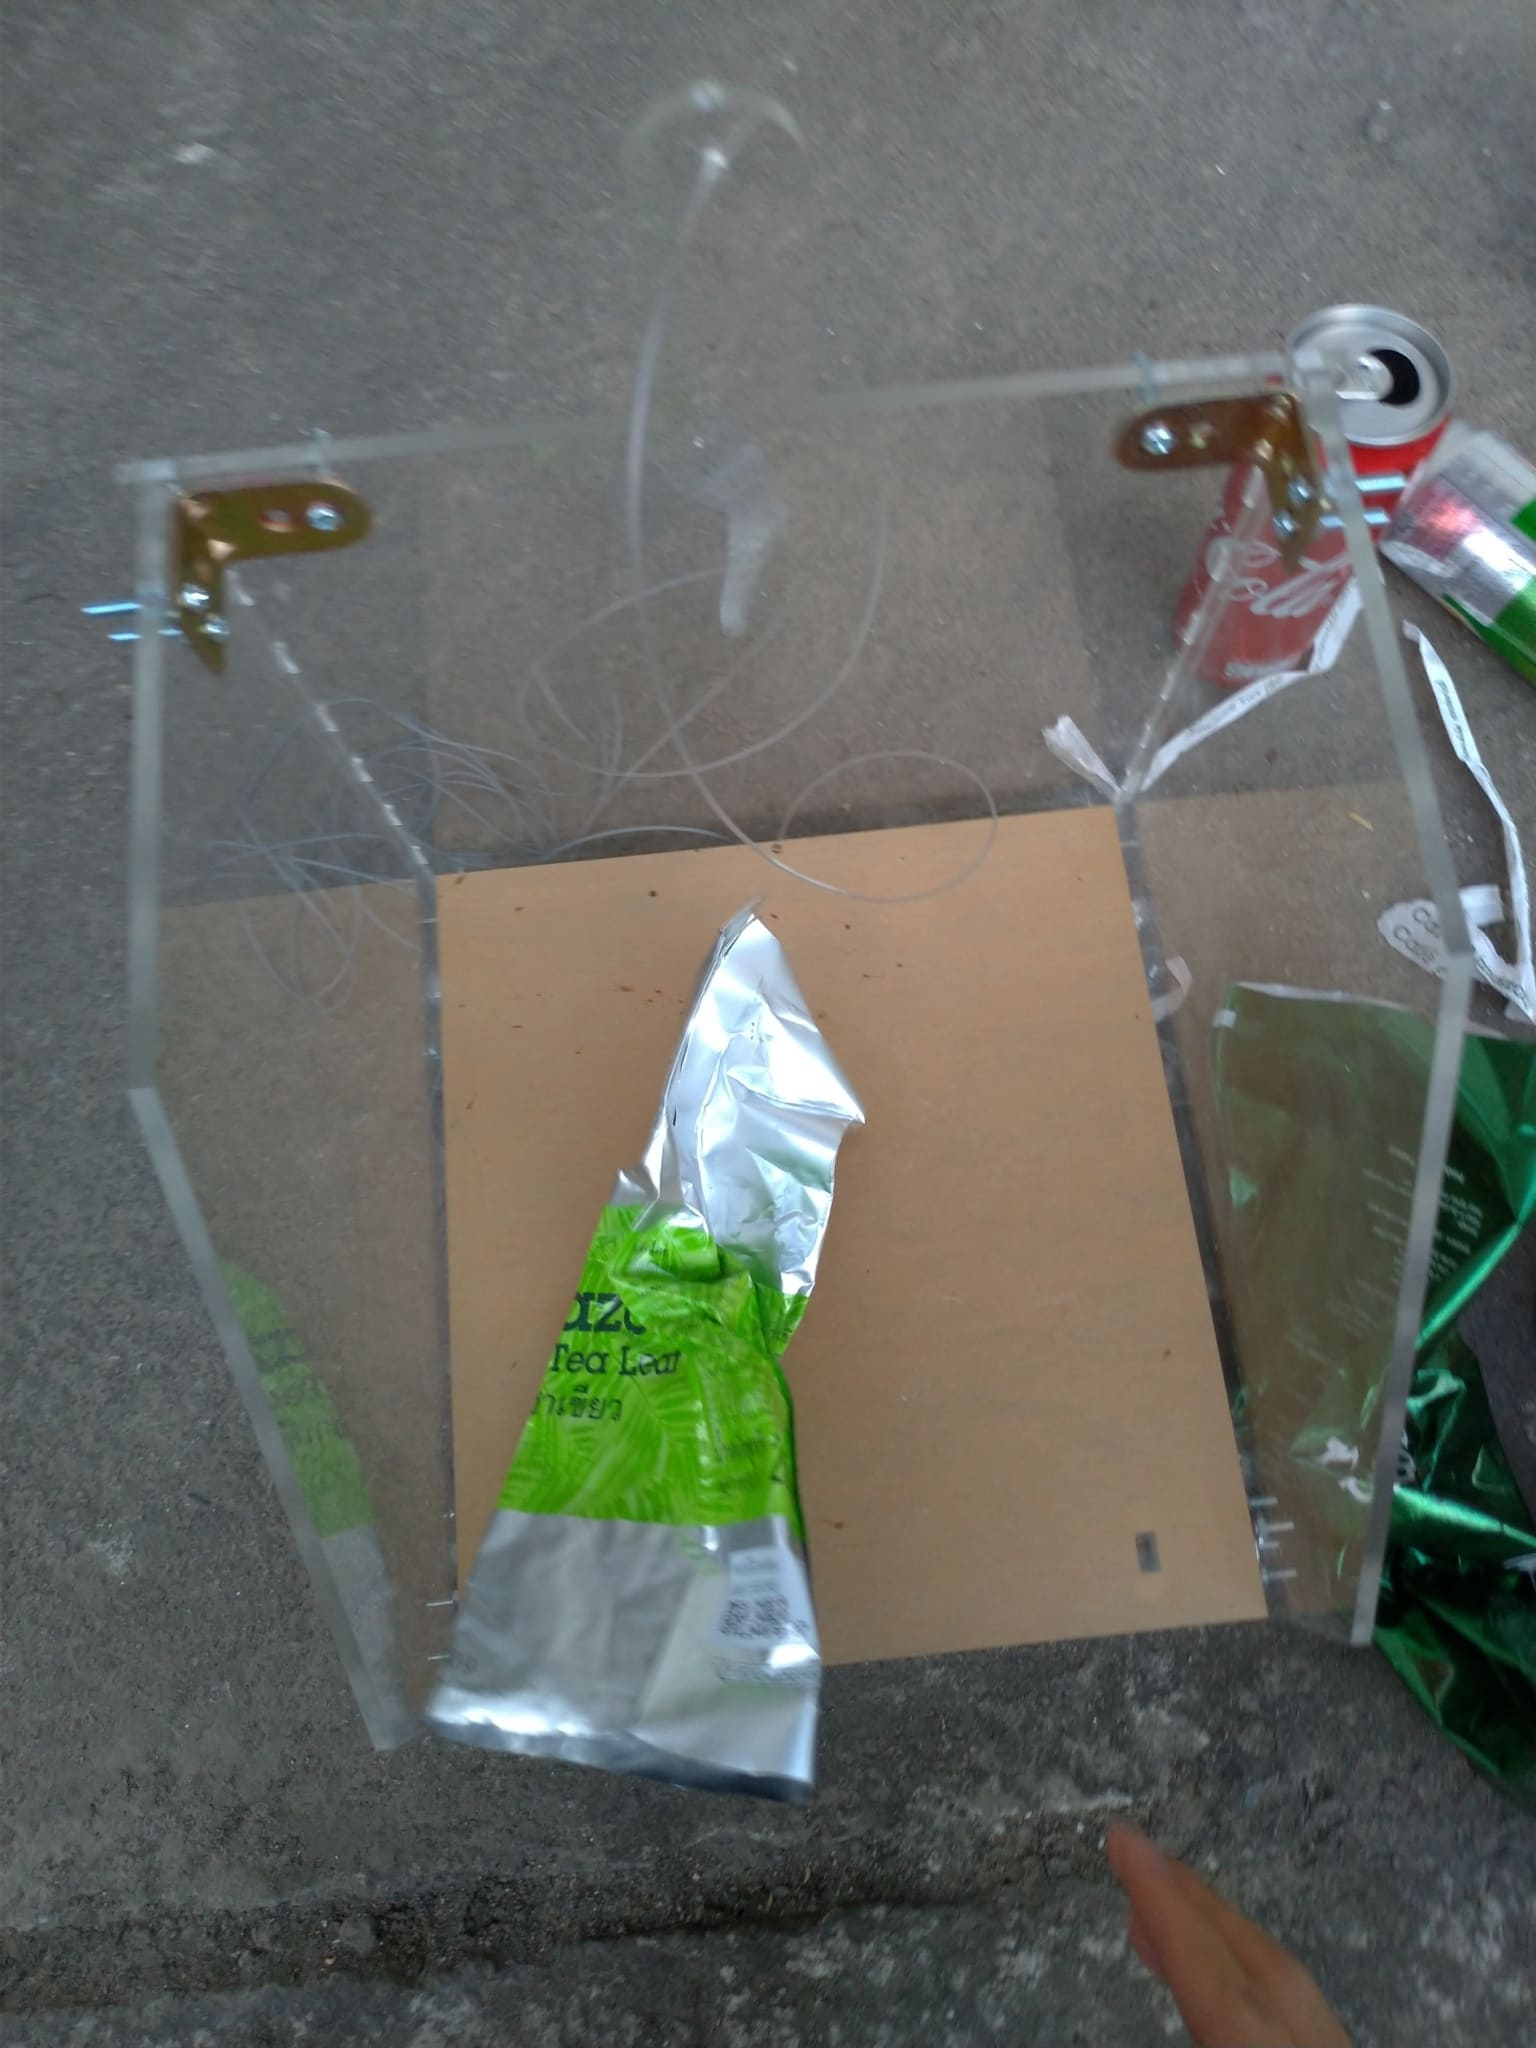AlCan: (1175, 302, 1454, 695), (1388, 419, 1536, 666)
Others: (410, 911, 874, 1792), (1207, 977, 1536, 1771), (1041, 581, 1371, 819), (1371, 601, 1521, 998)
